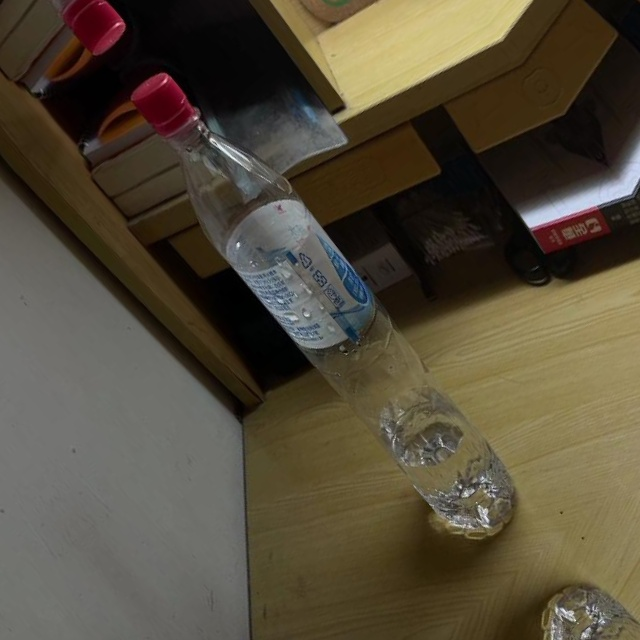Water: (103, 52, 547, 554)
